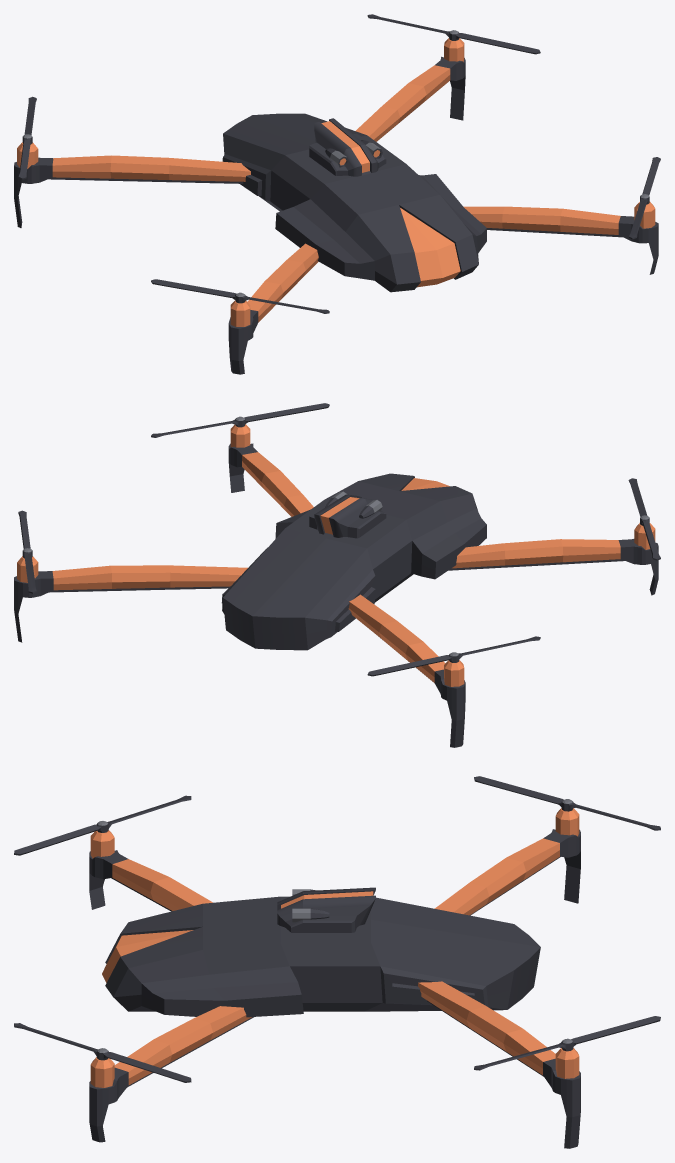
The model's file is Drone-nonanim.fbx.
3 views of the same model, one above another, from view 1: azimuth 30°, elevation 25°; view 2: azimuth 150°, elevation 25°; view 3: azimuth 270°, elevation 25° (orthographic). The views are drawn at different scales.
Parts seen in each view (by area): view 1: Body, Camera, Rotor_1, Rotor_4, Rotor_3, Rotor_2; view 2: Body, Camera, Rotor_2, Rotor_3, Rotor_4, Rotor_1; view 3: Body, Camera, Rotor_4, Rotor_3, Rotor_2, Rotor_1.
Part boxes in pixels (box(x1,y1,x2,y2)): Body: box(14, 38, 658, 374); Camera: box(309, 118, 386, 176); Rotor_1: box(151, 279, 329, 313); Rotor_4: box(367, 14, 540, 54); Rotor_3: box(18, 96, 36, 179); Rotor_2: box(628, 157, 660, 239); Body: box(14, 424, 658, 747); Camera: box(309, 491, 386, 538); Rotor_2: box(151, 403, 329, 437); Rotor_3: box(367, 636, 540, 676); Rotor_4: box(18, 510, 36, 593); Rotor_1: box(628, 478, 660, 560); Body: box(89, 808, 580, 1148); Camera: box(277, 887, 375, 932); Rotor_4: box(474, 1016, 660, 1070); Rotor_3: box(474, 776, 660, 830); Rotor_2: box(14, 1023, 191, 1082); Rotor_1: box(14, 795, 191, 855).
Size of the model in its own units: 6.35 by 1.33 by 5.93.
